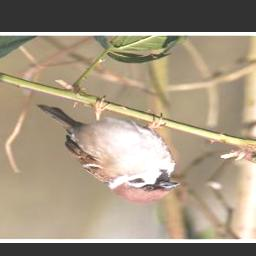Sparrow: (31, 95, 184, 205)
